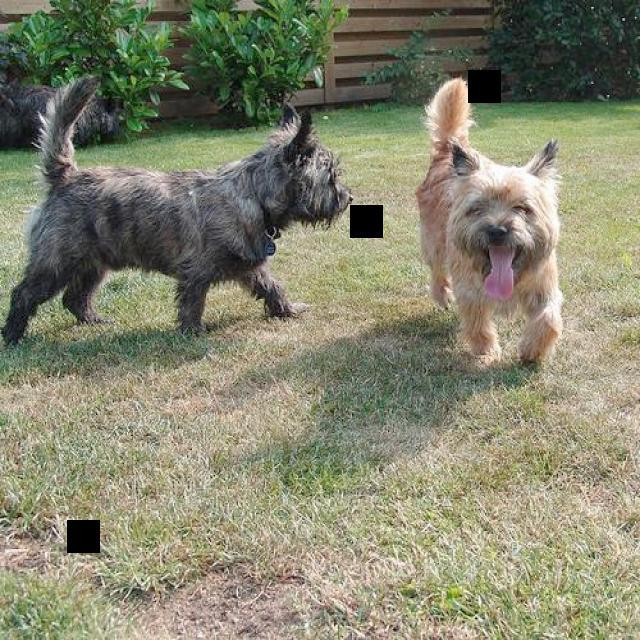adult_dog: (0, 73, 356, 351), (413, 72, 565, 375)
